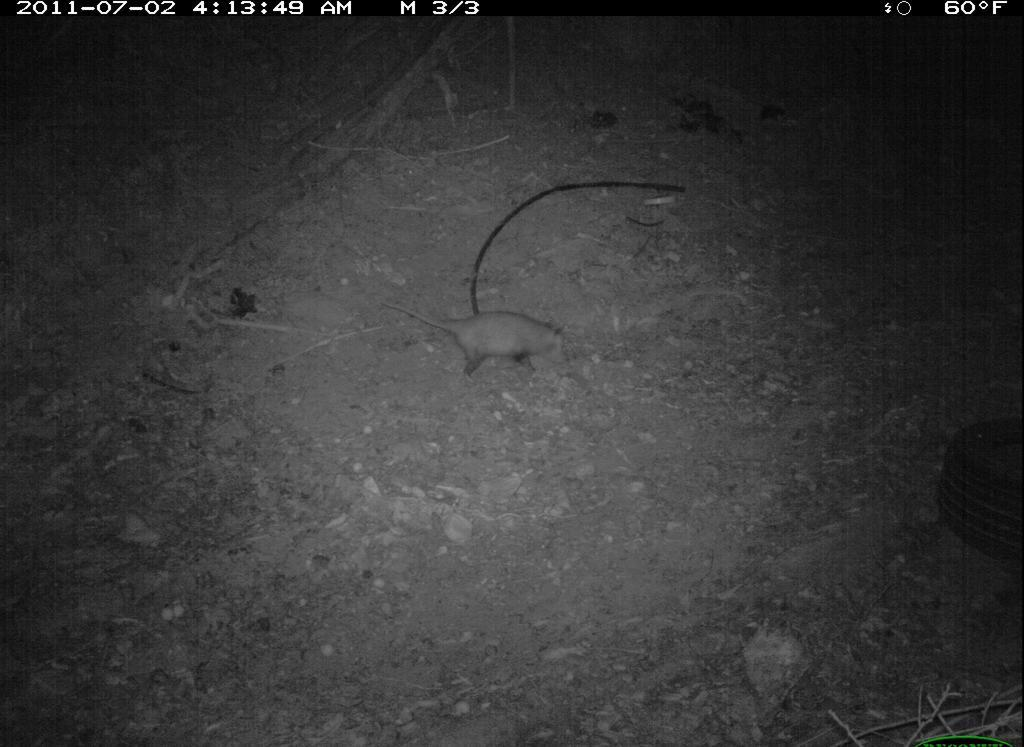opossum: (377, 297, 574, 390)
